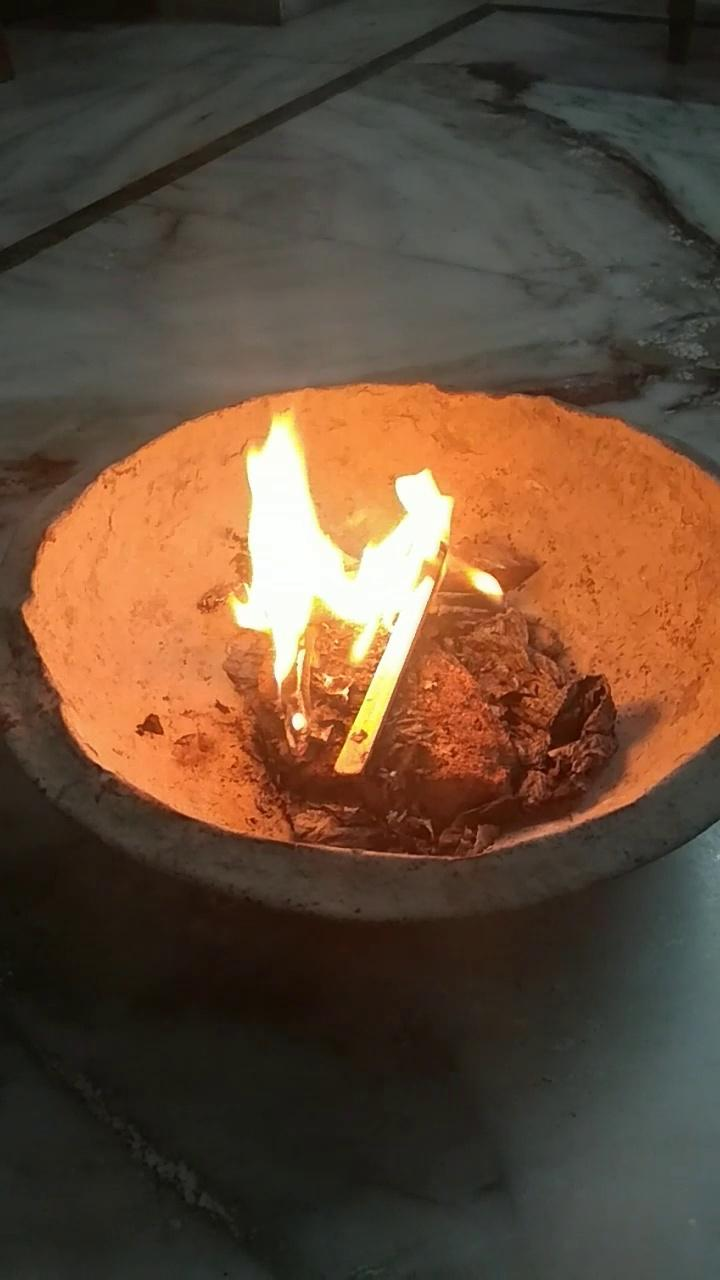fire: (189, 347, 510, 739)
